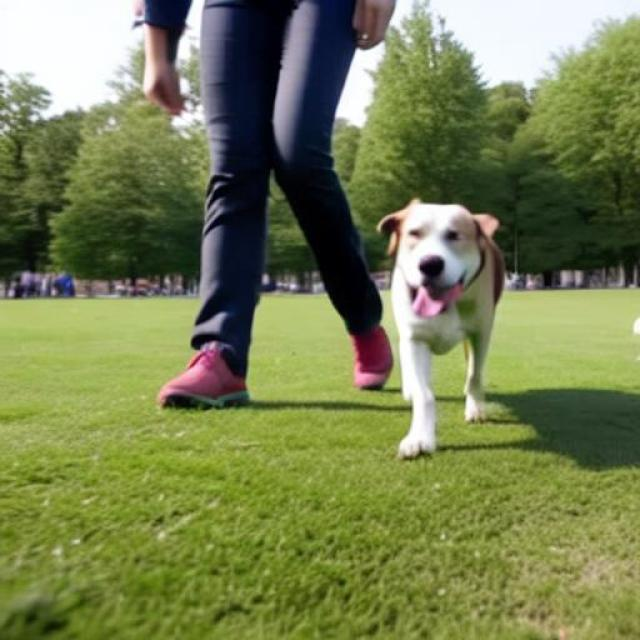Unleashed_Dog: (272, 1, 506, 461)
